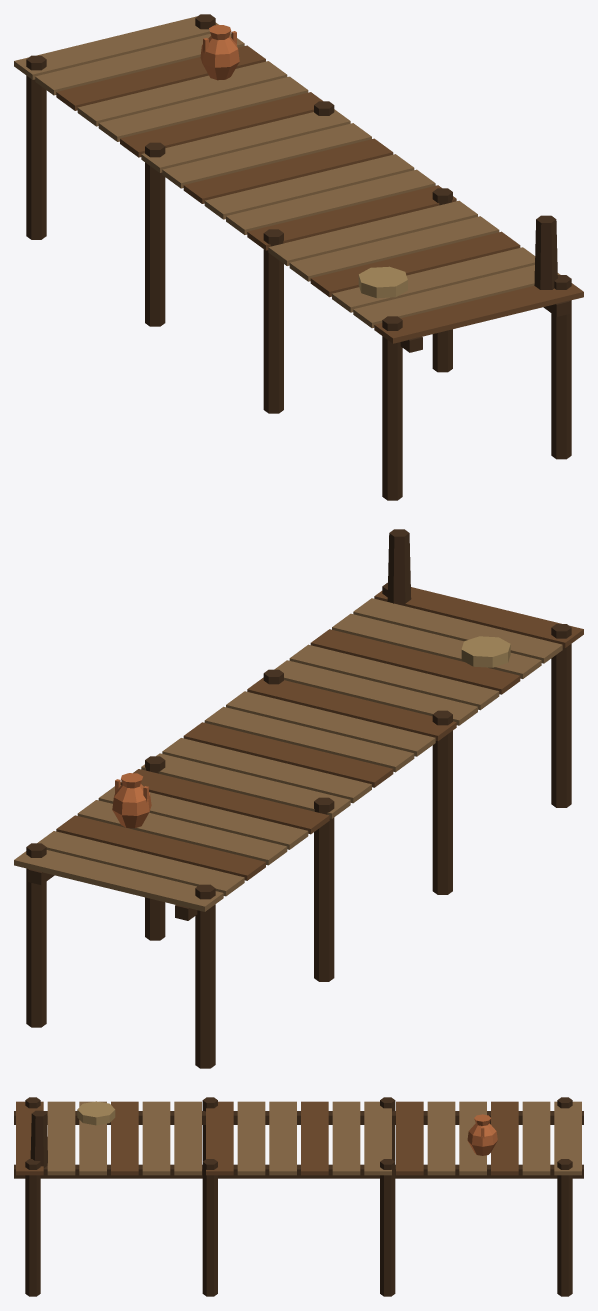
The model's file is desert_jetty.glb.
3 views of the same model, one above another, from view 1: azimuth 30°, elevation 25°; view 2: azimuth 150°, elevation 25°; view 3: azimuth 270°, elevation 25° (orthographic). The views are drawn at different scales.
Parts seen in each view (by area): view 1: desert_jetty; view 2: desert_jetty; view 3: desert_jetty.
Boxes of the visible parts, left/top/right/bottom form: desert_jetty: left=14, top=14, right=583, bottom=500; desert_jetty: left=14, top=529, right=583, bottom=1068; desert_jetty: left=14, top=1097, right=583, bottom=1296.
Size of the model in its own units: 2.6 by 3.07 by 9.
